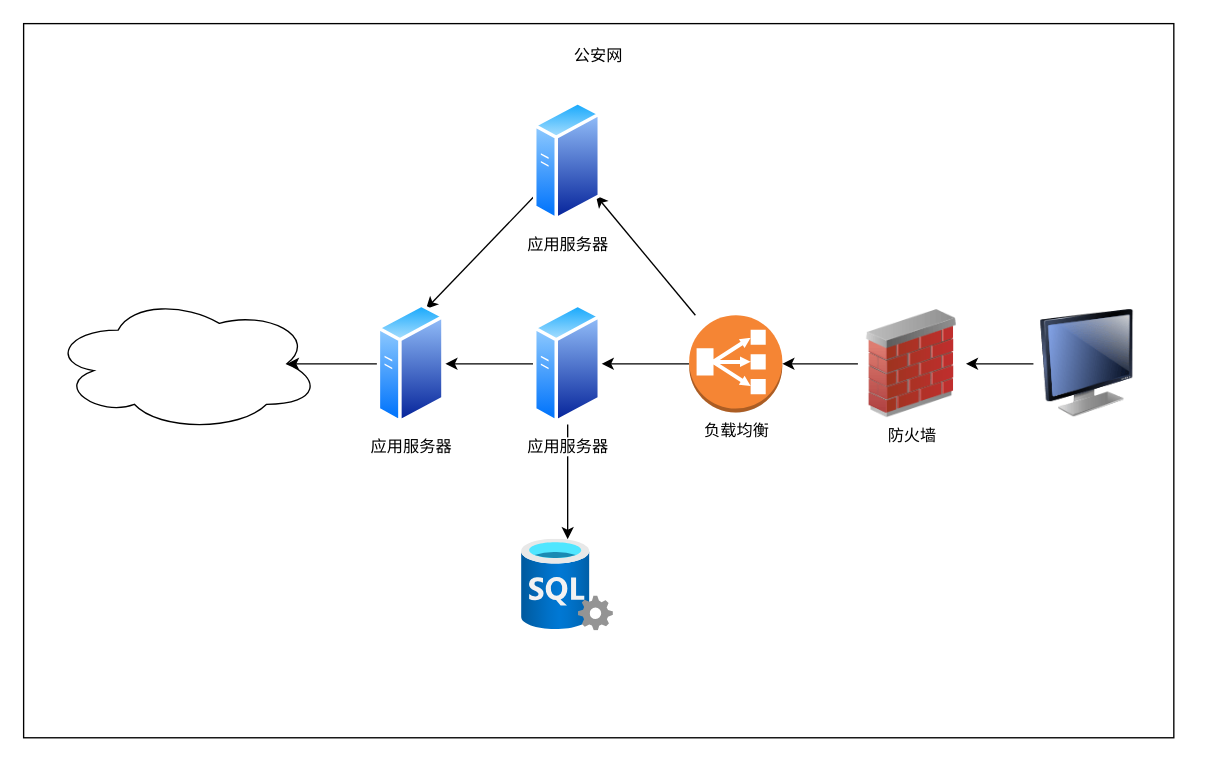
Image size: 1208x772. Some labels were removed from this diagram. The shapes that lost their labels are listed below. From the top down, each one's box as (x1, y1, x2, y2) in pixels, then its label:
(49, 295, 321, 431): 综合平台接口
(1033, 309, 1141, 417): PC
(521, 539, 613, 630): 数据库服务器
